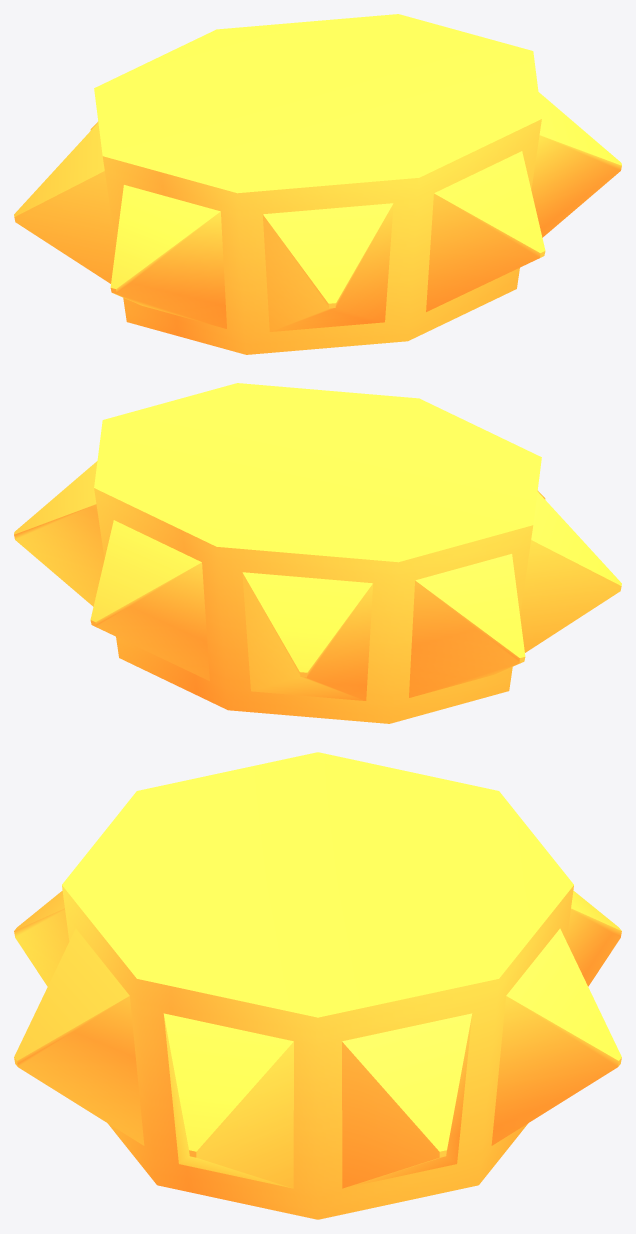
File: gold_guard_001.glb
3 renders of one model, top to bottom at view 1: azimuth 30°, elevation 25°; view 2: azimuth 150°, elevation 25°; view 3: azimuth 270°, elevation 25°, orthographic. The views are drawn at different scales.
Parts seen in each view (by area): view 1: gold_guard_001; view 2: gold_guard_001; view 3: gold_guard_001.
Part boxes in pixels (x1=…): gold_guard_001: x1=14, y1=14, x2=621, y2=354; gold_guard_001: x1=14, y1=383, x2=621, y2=723; gold_guard_001: x1=14, y1=752, x2=621, y2=1219.
Bounding box in the file's own units: 6.23 × 2 × 5.08.
Materials: 1 (1 with a texture image).
